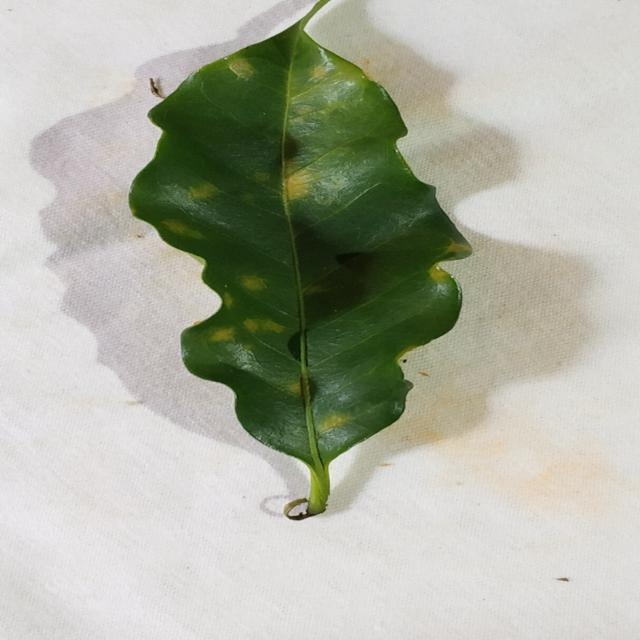Enfermedad-Roya: (127, 21, 474, 522)
